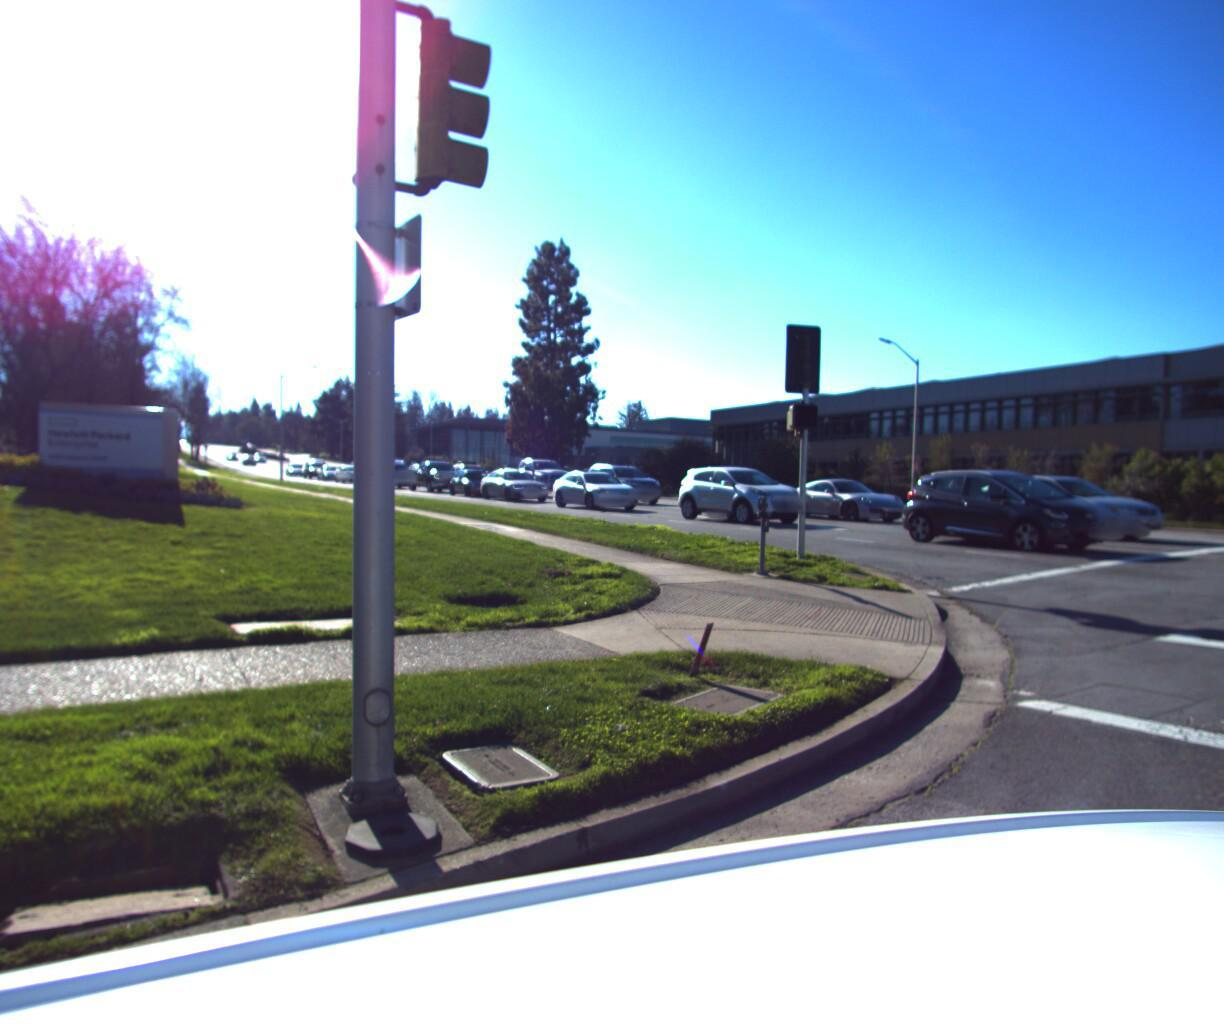car: (896, 460, 1143, 550), (957, 468, 1190, 539), (673, 457, 823, 520), (778, 470, 928, 519), (546, 463, 647, 506), (582, 453, 675, 498), (499, 451, 584, 492), (477, 461, 558, 495), (441, 462, 505, 490)
